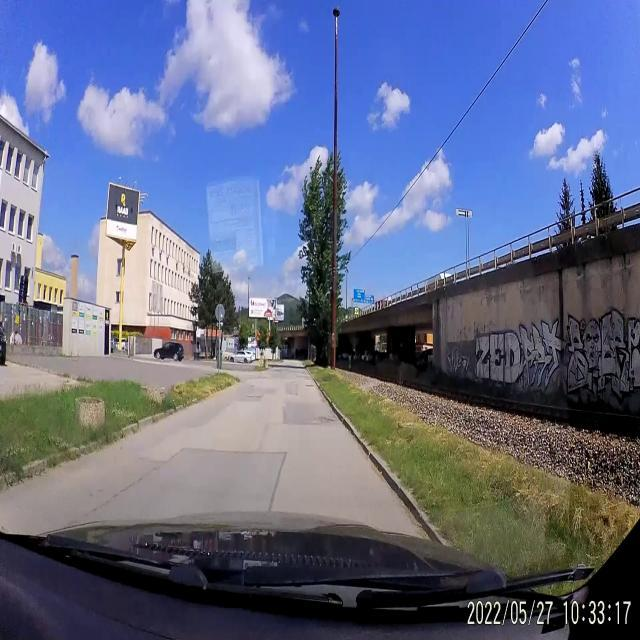Manhole: (304, 380, 316, 390)
Pothole: (314, 412, 336, 431), (246, 391, 268, 401)
